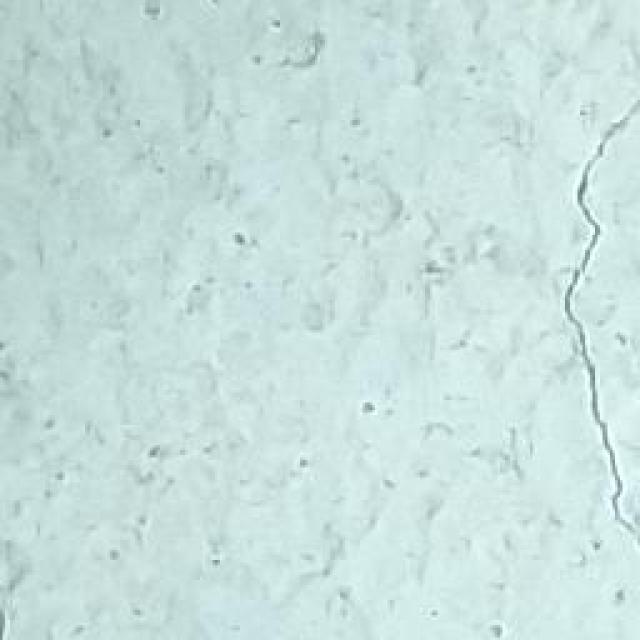Longitudinal: (566, 86, 640, 546)
